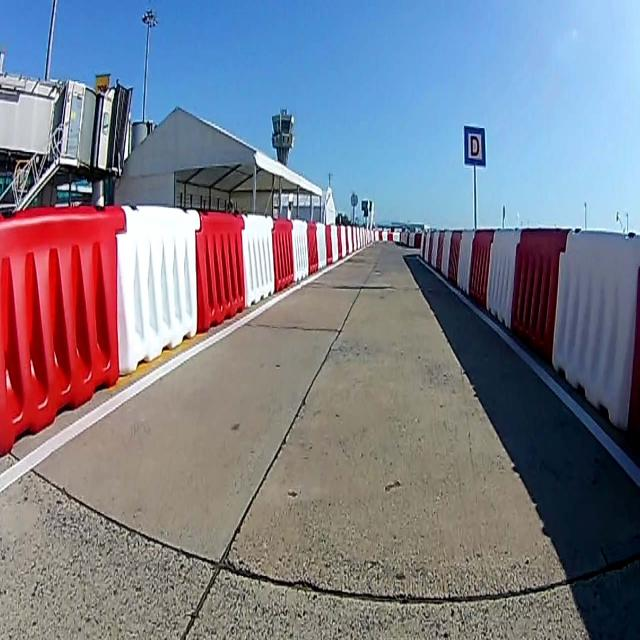durak: (462, 125, 486, 168)
